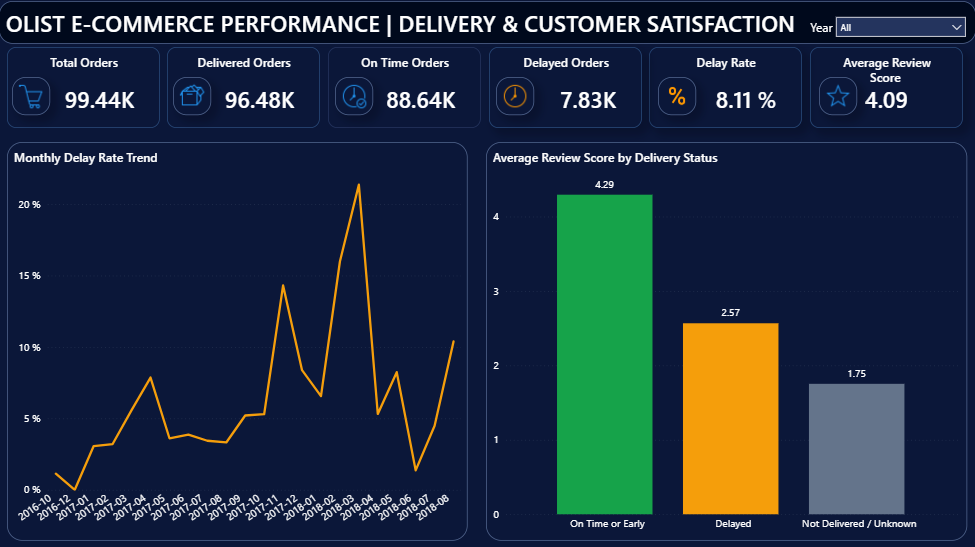

Layout of this report page (visuals, bound fields, positions):
{"tool":"powerbi","page":{"name":"Delivery & Customer Satisfaction","canvas":[1280,720],"ordinal":2},"visuals":[{"type":"cardVisual","title":"On Time Orders","fields":{"Data":["analytics dim_date.On Time Orders Display"]},"box":[432.1,64.8,200,106],"z":0},{"type":"cardVisual","title":"Total Orders","fields":{"Data":["analytics dim_date.Total Orders Display"]},"box":[11.5,64.8,200,106],"z":1000},{"type":"cardVisual","title":"Delivered Orders","fields":{"Data":["analytics dim_date.Delivered Orders Display"]},"box":[221.8,64.8,200,106],"z":2000},{"type":"cardVisual","title":"Delay Rate ","fields":{"Data":["analytics fact_orders.delay rate %"]},"box":[852.7,64.8,200,106],"z":3000},{"type":"cardVisual","fields":{"Data":["analytics fact_orders.average review score"]},"box":[1063,64.8,200,106],"z":4000},{"type":"clusteredColumnChart","title":"Average Review Score by Delivery Status","fields":{"Category":["analytics fact_orders.delivery_status_group"],"Y":["analytics fact_orders.average review score"]},"box":[638.8,188.5,629.7,522.3],"z":5000},{"type":"image","box":[440.6,103,50,50],"z":6000},{"type":"image","box":[17.8,103,50,50],"z":7000},{"type":"image","box":[863.4,103,50,50],"z":8000},{"type":"image","box":[1074.8,103,50,50],"z":9000},{"type":"textbox","title":"Score","box":[1133.6,85,58.6,32.9],"z":10000},{"type":"image","box":[229.2,103,50,50],"z":11000},{"type":"lineChart","title":"Monthly Delay Rate Trend","fields":{"Category":["analytics dim_date.year_month"],"Y":["analytics dim_date.Delay Rate Trend %"]},"box":[11.8,188.5,603.5,522.3],"z":12000},{"type":"shape","title":"OLIST E-COMMERCE PERFORMANCE | DELIVERY & CUSTOMER SATISFACTION","box":[1.3,4.3,1278.7,56.2],"z":13000},{"type":"textbox","box":[1033.9,20.2,87.8,49],"z":14000},{"type":"slicer","fields":{"Values":["analytics dim_date.year_number"]},"box":[1083.6,11.8,196.4,53.7],"z":15000},{"type":"cardVisual","title":"Delayed Orders","fields":{"Data":["analytics dim_date.Delayed Orders Display"]},"box":[642.4,64.8,200,106],"z":16000},{"type":"image","box":[652,103,50,50],"z":17000}]}

Visuals, with their boxes in screenshot pixels (x1, y1, x2, y2), scaled from the page's 1280x720 canvas onto the 975x547 screenshot:
"On Time Orders" cardVisual: [329, 49, 481, 130]
"Total Orders" cardVisual: [9, 49, 161, 130]
"Delivered Orders" cardVisual: [169, 49, 321, 130]
"Delay Rate " cardVisual: [650, 49, 802, 130]
cardVisual - analytics fact_orders.average review score: [810, 49, 962, 130]
"Average Review Score by Delivery Status" clusteredColumnChart: [487, 143, 966, 540]
image: [336, 78, 374, 116]
image: [14, 78, 52, 116]
image: [658, 78, 696, 116]
image: [819, 78, 857, 116]
"Score" textbox: [863, 65, 908, 90]
image: [175, 78, 213, 116]
"Monthly Delay Rate Trend" lineChart: [9, 143, 469, 540]
"OLIST E-COMMERCE PERFORMANCE | DELIVERY & CUSTOMER SATISFACTION" shape: [1, 3, 974, 46]
textbox: [788, 15, 854, 53]
slicer - analytics dim_date.year_number: [825, 9, 974, 50]
"Delayed Orders" cardVisual: [489, 49, 642, 130]
image: [497, 78, 535, 116]
